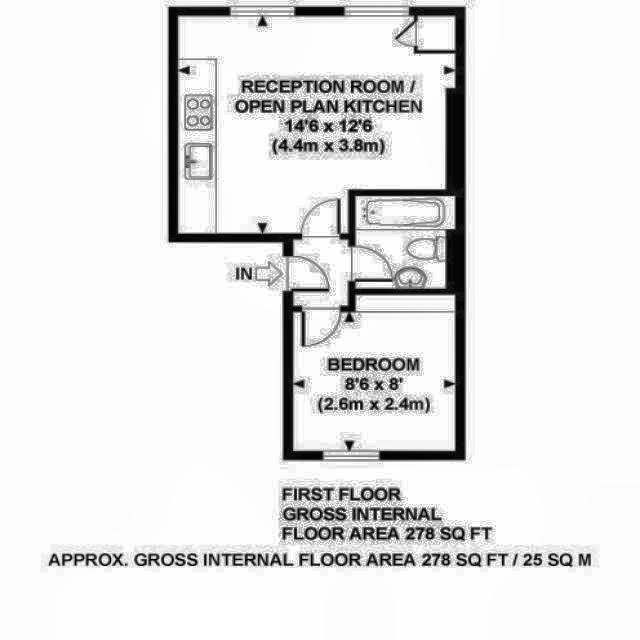room: (177, 16, 456, 233), (293, 294, 456, 451), (355, 196, 455, 289), (294, 240, 348, 305)
